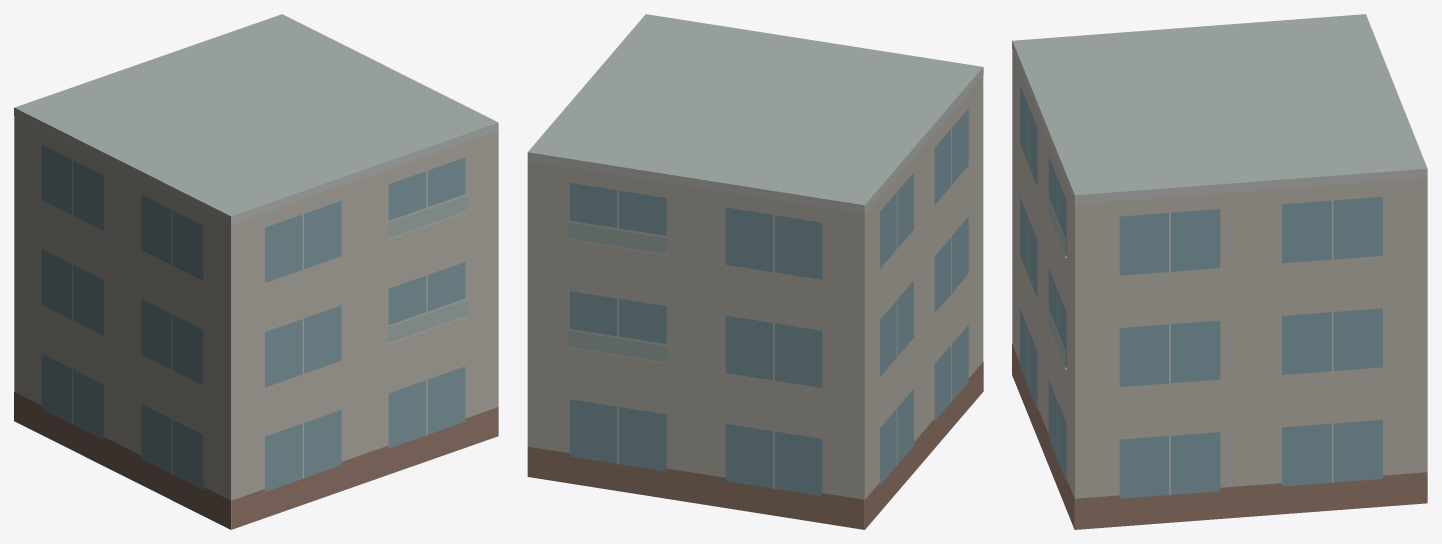
Rendered from survey-upis-32917216.glb.
3 views of the same model, side by side, from view 1: azimuth 30°, elevation 25°; view 2: azimuth 150°, elevation 25°; view 3: azimuth 270°, elevation 25° (orthographic). The views are drawn at different scales.
Visible parts, largest first — view 1: survey-upis-32917216.tmp; view 2: survey-upis-32917216.tmp; view 3: survey-upis-32917216.tmp.
Part boxes in pixels (x1,y1,x2,y2): survey-upis-32917216.tmp: (14, 14, 498, 529); survey-upis-32917216.tmp: (527, 14, 983, 529); survey-upis-32917216.tmp: (1012, 14, 1427, 529).
Size of the model in its own units: 10.64 by 9.15 by 10.3.
